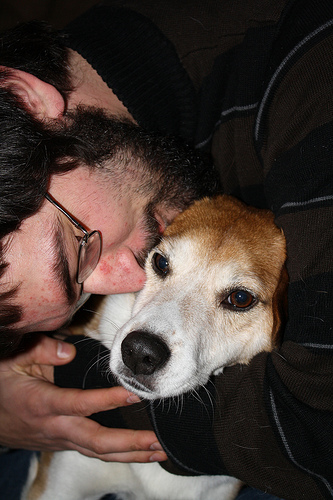dog: (20, 191, 316, 498)
